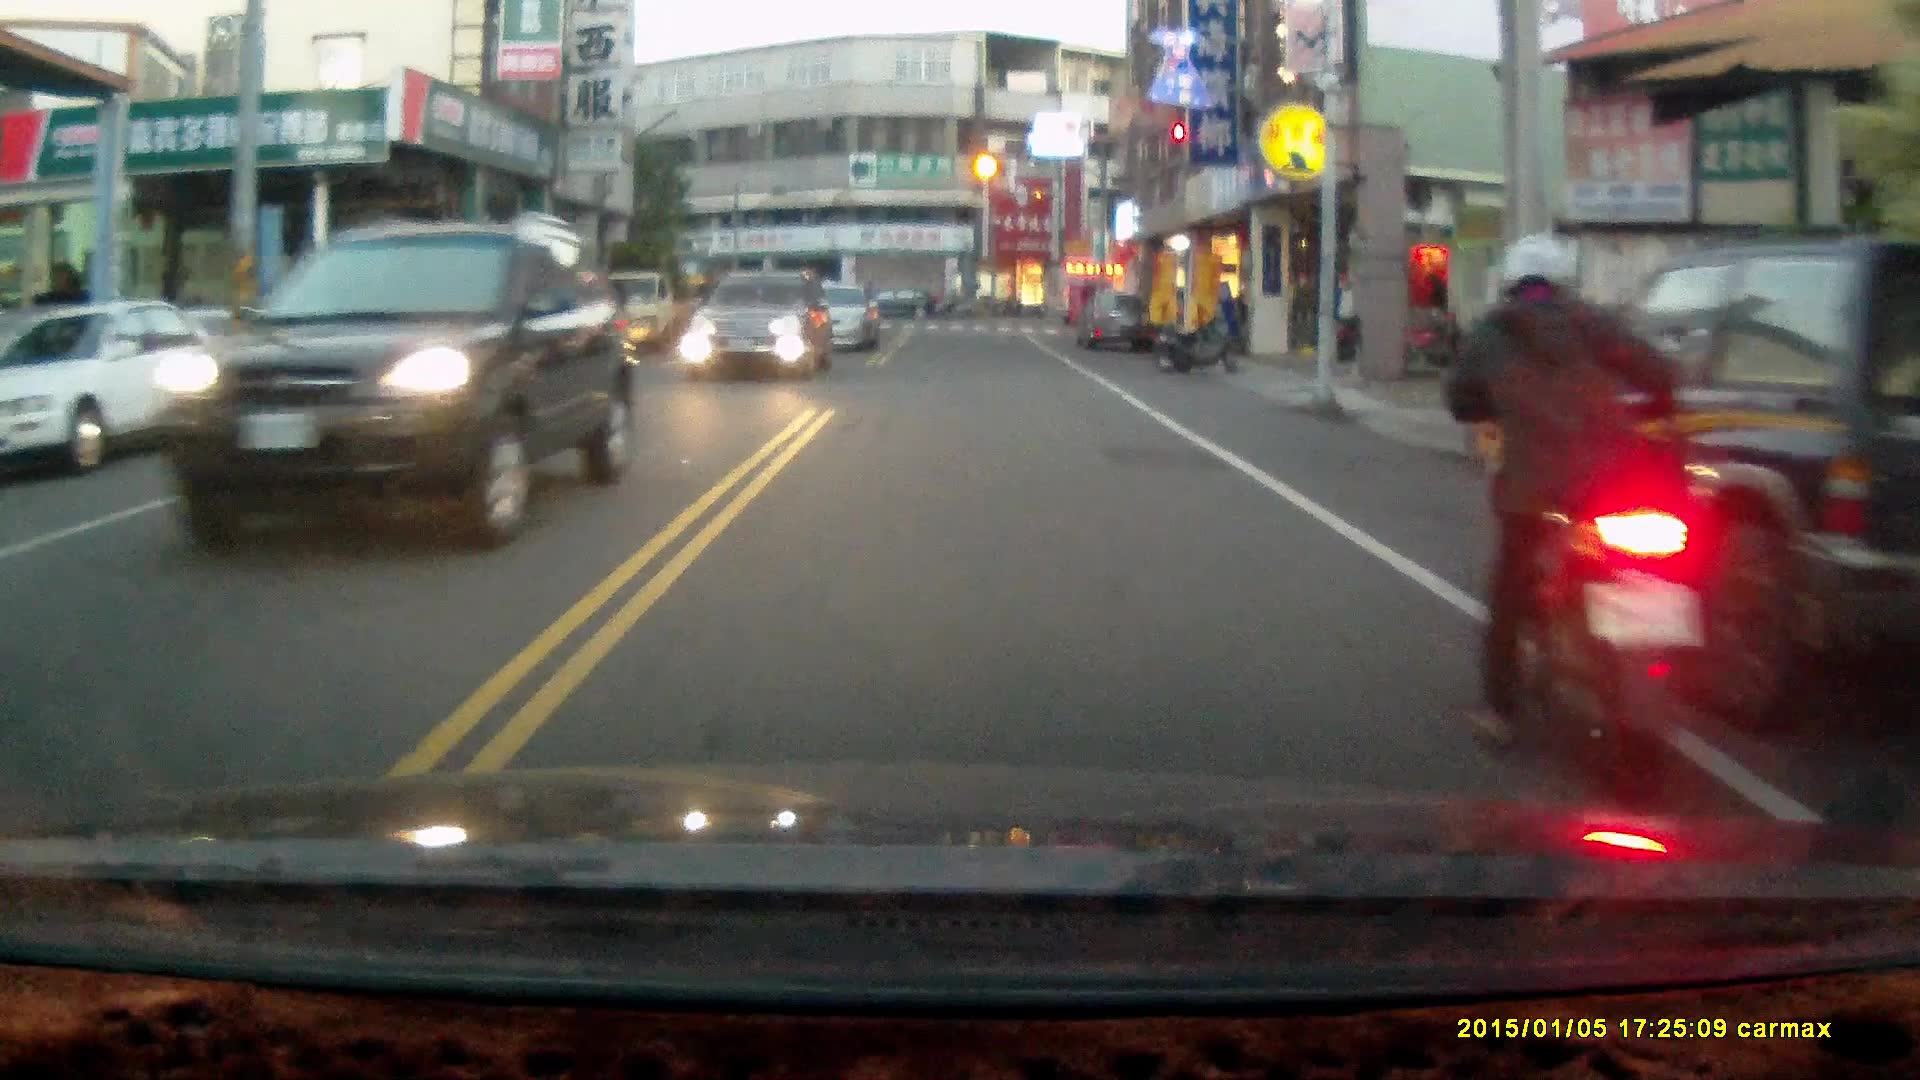rider: (1439, 236, 1722, 801)
vehicle: (1510, 241, 1920, 709), (131, 215, 632, 551), (1, 295, 253, 471), (684, 268, 832, 383), (771, 277, 879, 354), (1077, 290, 1153, 357)
